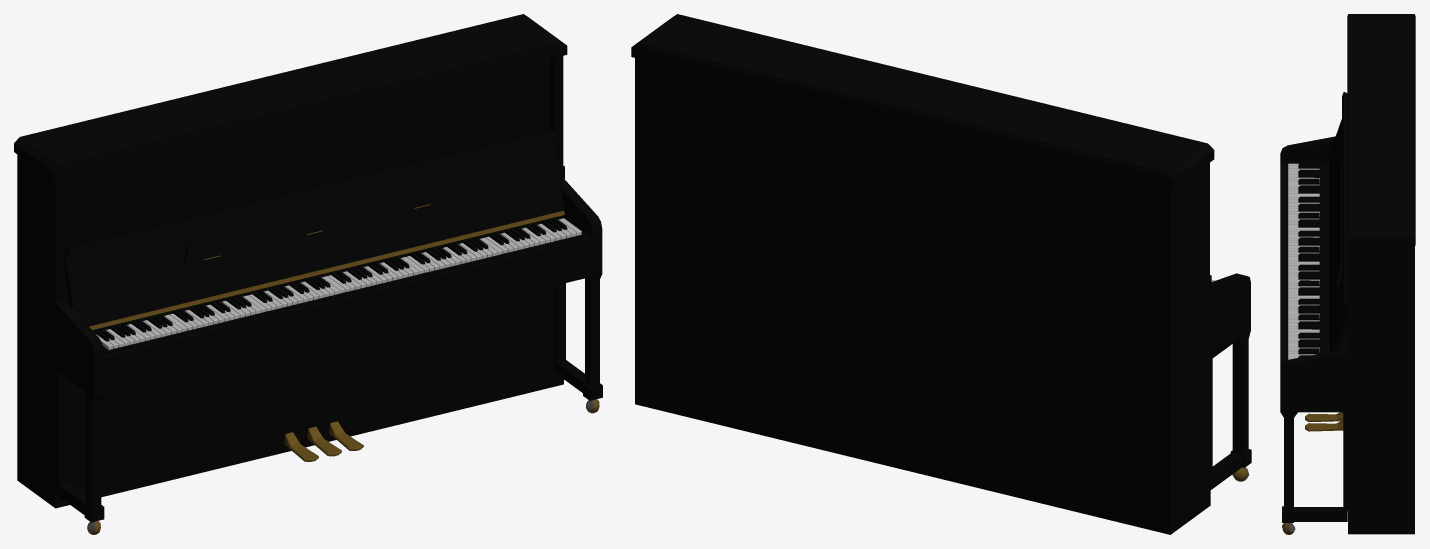
The model's file is wholePiano2.fbx.
The picture shows the model from 3 angles, left to right: view 1: azimuth 30°, elevation 25°; view 2: azimuth 150°, elevation 25°; view 3: azimuth 270°, elevation 25°; orthographic projection. The views are drawn at different scales.
Parts seen in each view (by area): view 1: piano_body, piano_cap, book_stand, pCube8; view 2: piano_body; view 3: piano_body, piano_cap, book_stand, pCube11, pCube9, frame2, frame3, frame, frame4, frame1, pCube8.
Boxes of the visible parts, x1=… form: piano_body: x1=14, y1=14, x2=602, y2=522; piano_cap: x1=64, y1=130, x2=564, y2=326; book_stand: x1=183, y1=183, x2=446, y2=263; pCube8: x1=89, y1=211, x2=564, y2=329; piano_body: x1=631, y1=14, x2=1251, y2=534; piano_body: x1=1280, y1=14, x2=1415, y2=534; piano_cap: x1=1328, y1=92, x2=1347, y2=352; book_stand: x1=1335, y1=163, x2=1341, y2=287; pCube11: x1=1305, y1=420, x2=1343, y2=431; pCube9: x1=1305, y1=412, x2=1343, y2=421; frame2: x1=1285, y1=232, x2=1323, y2=270; frame3: x1=1285, y1=266, x2=1323, y2=304; frame: x1=1285, y1=165, x2=1323, y2=202; frame4: x1=1285, y1=301, x2=1323, y2=338; frame1: x1=1285, y1=199, x2=1323, y2=236; pCube8: x1=1328, y1=160, x2=1328, y2=351.
Bounding box in the file's own units: 157 × 100 × 40.35.
